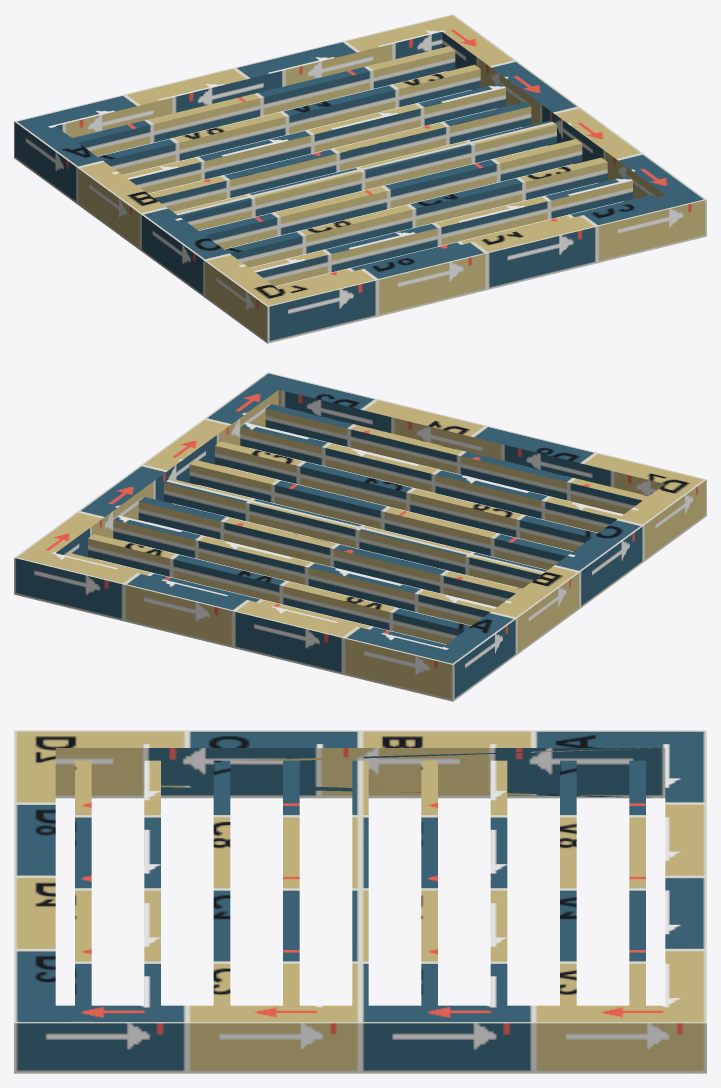
File: VENT_CeilingGrille.fbx
3 renders of one model, top to bottom at view 1: azimuth 30°, elevation 25°; view 2: azimuth 150°, elevation 25°; view 3: azimuth 270°, elevation 25°, orthographic. The views are drawn at different scales.
Visible parts, largest first — view 1: VENT_CeilingGrille; view 2: VENT_CeilingGrille; view 3: VENT_CeilingGrille.
Boxes of the visible parts, box(x1,y1,x2,y2) form: VENT_CeilingGrille: box(14, 14, 706, 343); VENT_CeilingGrille: box(14, 372, 706, 701); VENT_CeilingGrille: box(14, 730, 706, 1073).
Size of the model in its own units: 100 by 8 by 100.
Materials: 1 (1 with a texture image).
